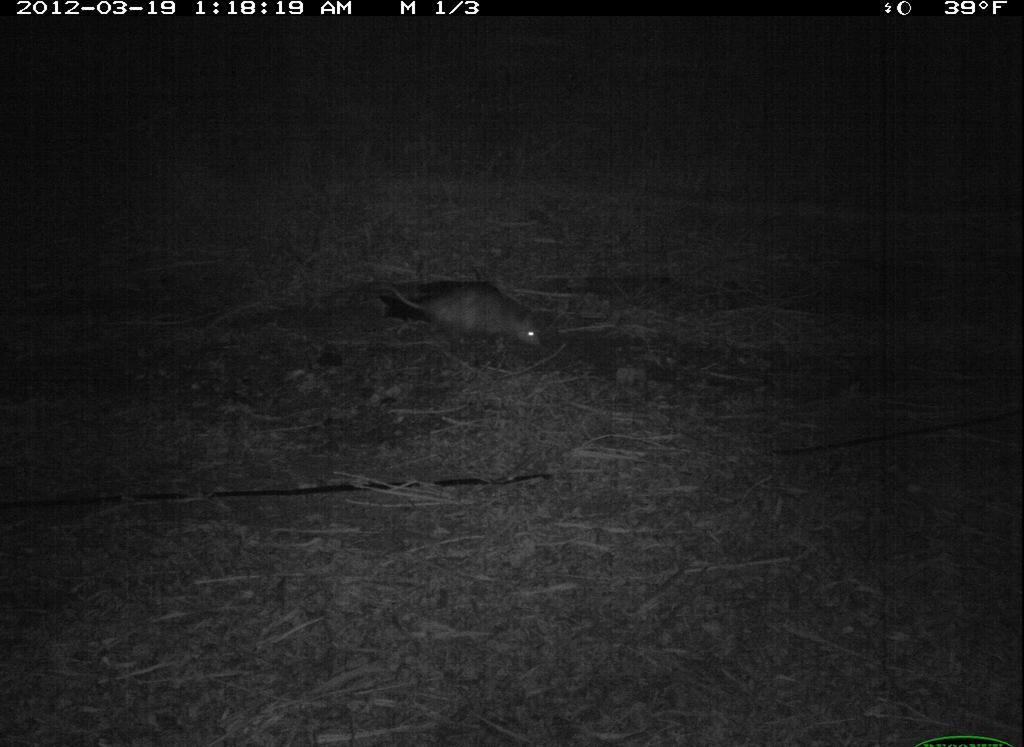opossum: (363, 260, 566, 364)
